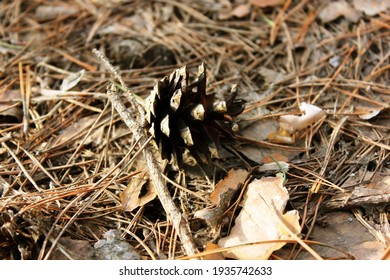Pc: (136, 73, 241, 169)
